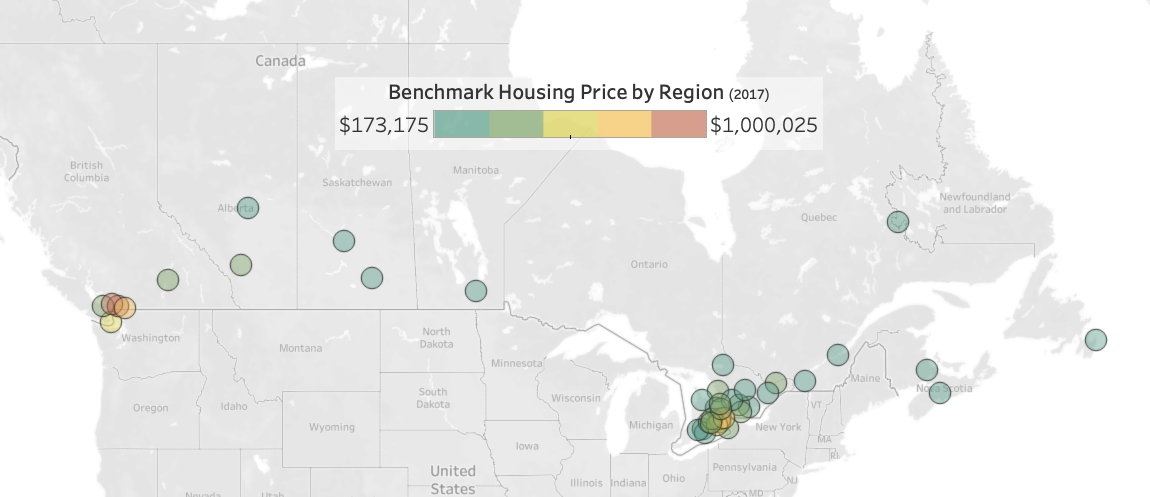

The page's visual inventory and layout, read from the dashboard file:
{"tool":"tableau","page":{"name":"Task 4","canvas":[1000,1000],"units":"permille","ordinal":2},"visuals":[{"type":"worksheet","title":"Task 4 | Heatmap","mark":"Automatic","rows":["Region"],"cols":["Date (appended data)"],"box":[3.9,6.2,913.4,747.5]},{"type":"legend","title":"Task 4 | Heatmap","param":"[federated.1okl8ay0m9et4017je1rc01q96pp].[avg:Composite_Benchmark (appended data","box":[563.3,156.8,190.2,30.1]}]}

Visuals, with their boxes on the dashboard's canvas, which has no fixed pixel size, in thousandths of its width and height (x1, y1, x2, y2). These are canvas units, not pixel positions in the 1150x497 screenshot, which may show the page scaled, cropped or inside an application window:
"Task 4 | Heatmap" worksheet: rect(4, 6, 917, 754)
"Task 4 | Heatmap" legend: rect(563, 157, 754, 187)
